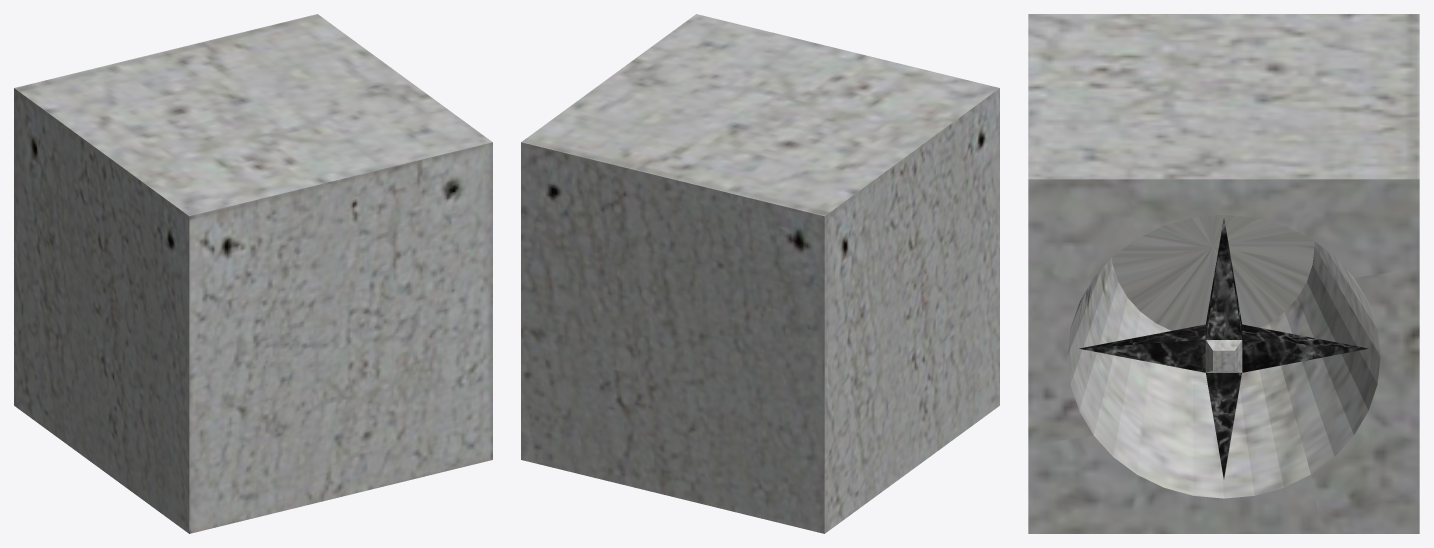
The model's file is wentylator.fbx.
3 views of the same model, side by side, from view 1: azimuth 30°, elevation 25°; view 2: azimuth 150°, elevation 25°; view 3: azimuth 270°, elevation 25° (orthographic). The views are drawn at different scales.
Visible parts, largest first — view 1: wentylator; view 2: wentylator; view 3: wentylator, wiatrak.
Boxes of the visible parts, <box> form: wentylator: <box>14,14,492,533</box>; wentylator: <box>521,14,999,533</box>; wentylator: <box>1028,14,1419,533</box>; wiatrak: <box>1079,218,1368,478</box>.
Bounding box in the file's own units: 205 × 200 × 200.
